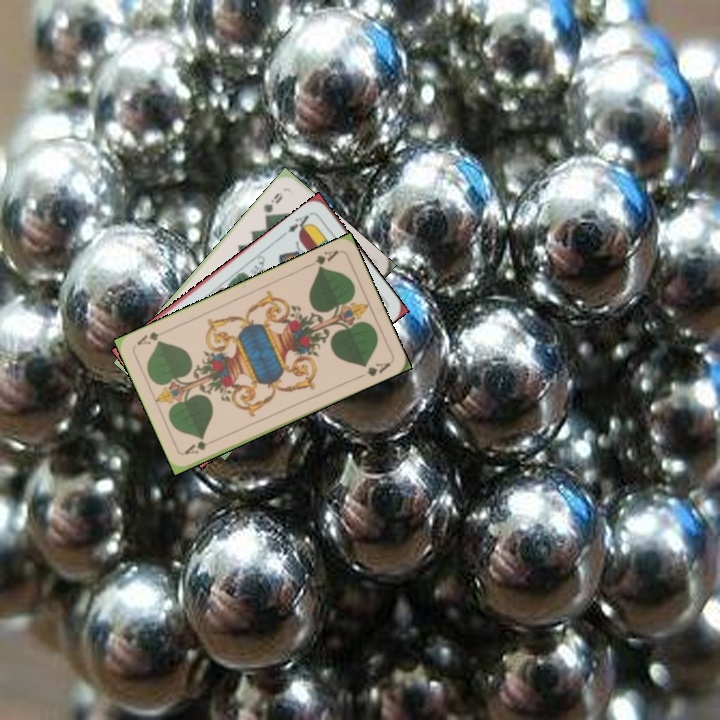EA: (283, 209, 315, 236)
G9: (259, 189, 285, 223)
GA: (303, 246, 341, 272), (180, 434, 219, 457)
